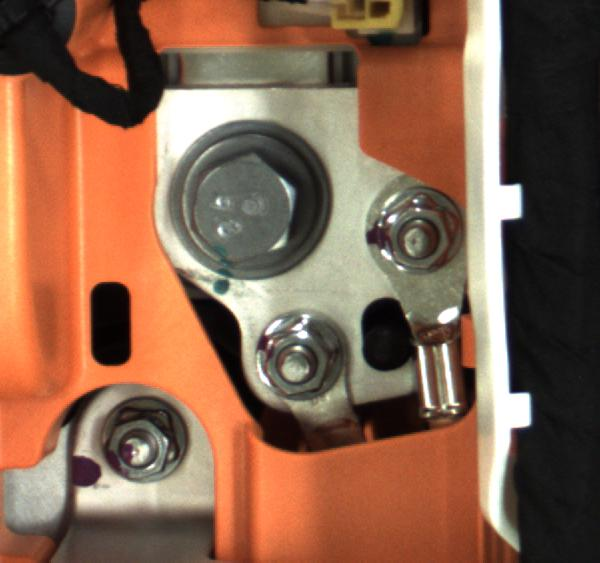nut_b: (170, 111, 332, 278)
screw_s: (84, 400, 203, 496), (239, 316, 348, 419), (375, 194, 466, 282)
